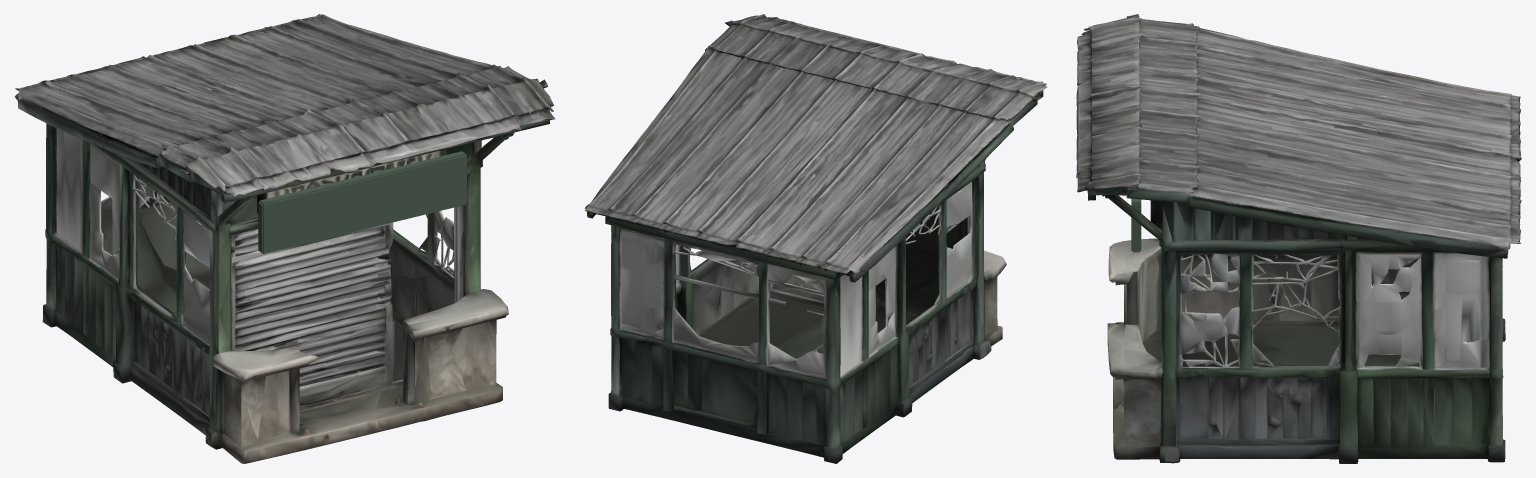
The model's file is wrecked_kiosk.fbx.
3 renders of one model, left to right at view 1: azimuth 30°, elevation 25°; view 2: azimuth 150°, elevation 25°; view 3: azimuth 270°, elevation 25°, orthographic. The views are drawn at different scales.
Visible parts, largest first — view 1: wrecked_kiosk, KioskFasciaPlate; view 2: wrecked_kiosk; view 3: wrecked_kiosk, KioskFasciaPlate.
Part boxes in pixels (x1,y1,x2,y2): wrecked_kiosk: (14,14,554,463); KioskFasciaPlate: (258,151,466,253); wrecked_kiosk: (584,14,1047,463); wrecked_kiosk: (1076,14,1521,463); KioskFasciaPlate: (1131,198,1141,252).
Bounding box in the file's own units: 3.29 × 2.65 × 3.52.
2 materials, 1 textured.
